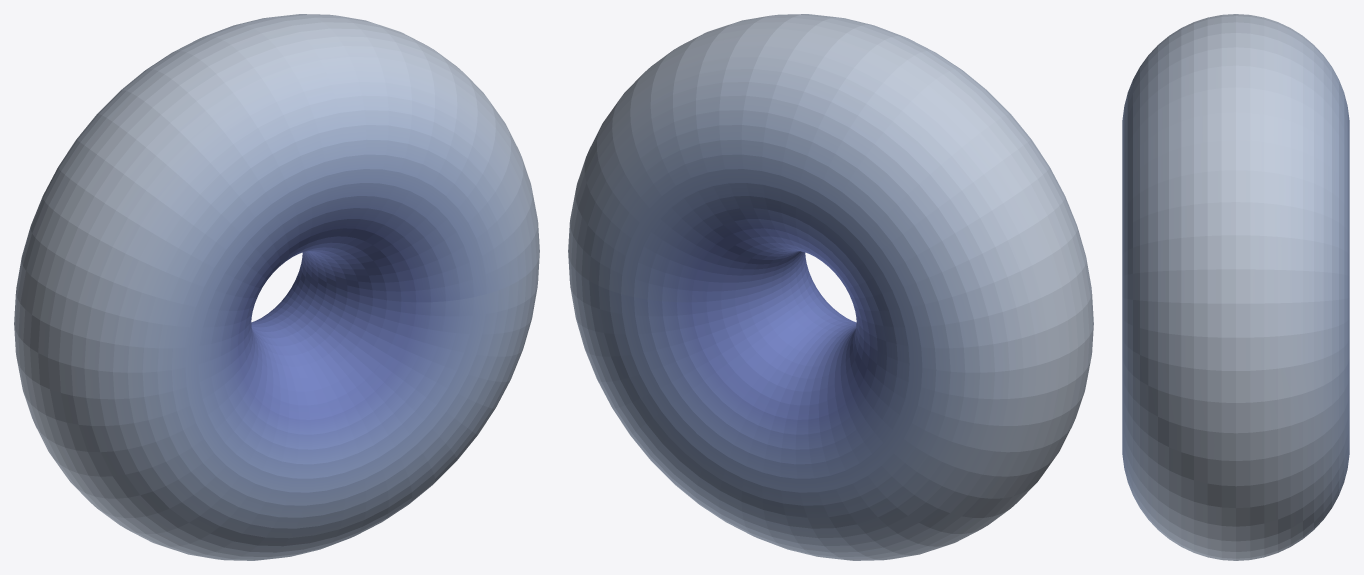
3 views of the same model, side by side, from view 1: azimuth 30°, elevation 25°; view 2: azimuth 150°, elevation 25°; view 3: azimuth 270°, elevation 25° (orthographic). The views are drawn at different scales.
Parts seen in each view (by area): view 1: world; view 2: world; view 3: world.
Part boxes in pixels (bbox=[...]): world: bbox=[14, 14, 539, 560]; world: bbox=[568, 14, 1093, 560]; world: bbox=[1122, 14, 1349, 560].
Bounding box in the file's own units: 18.27 × 18.23 × 7.59.
